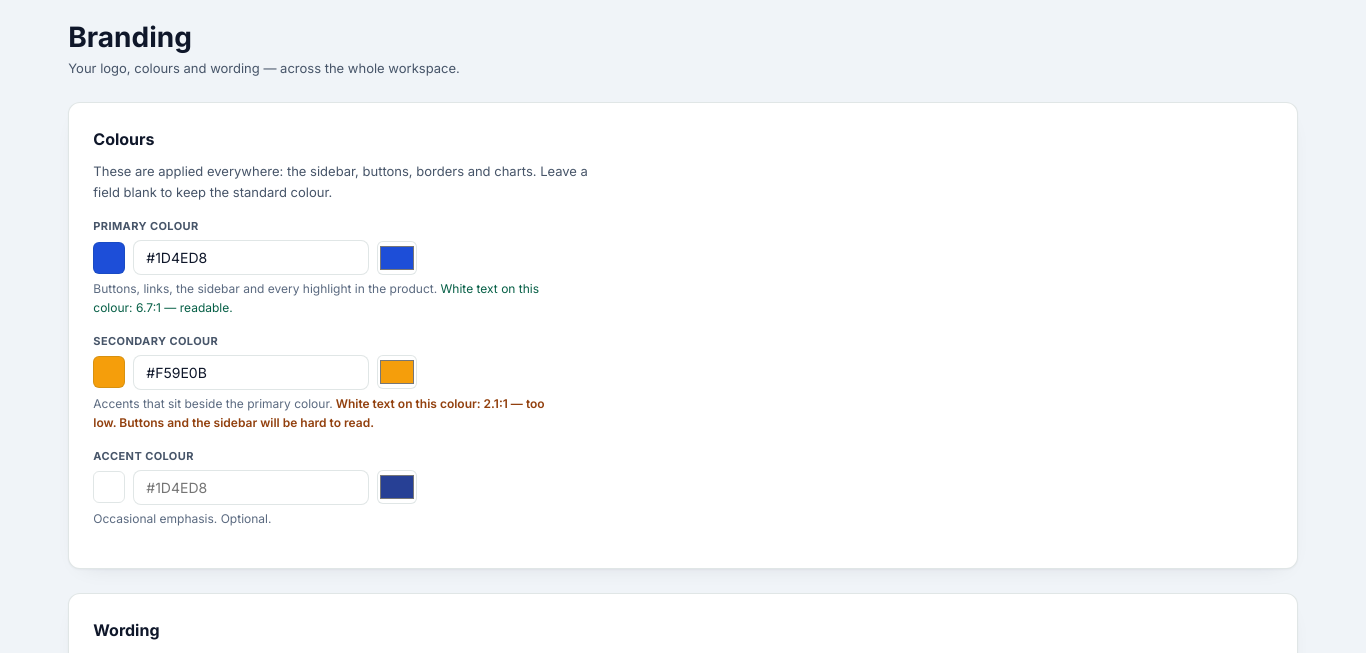
it: the branding centre › reports a refused colour without losing what was typed
The image size is (1366, 653).
In the field labelled "Primary colour": (251, 258) [133,240,369,275], type "rebeccapurple"
(page scrolled)
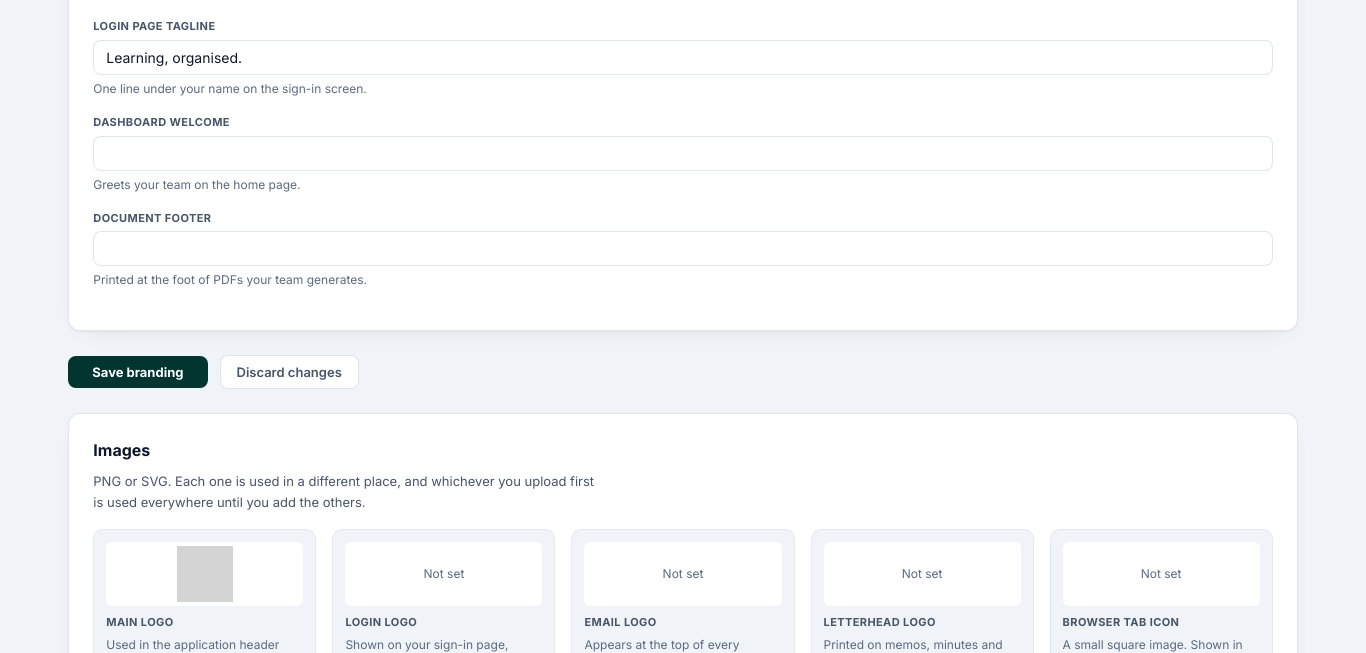
Click the button "Save branding": (138, 372) [68,356,208,388]
(page scrolled)
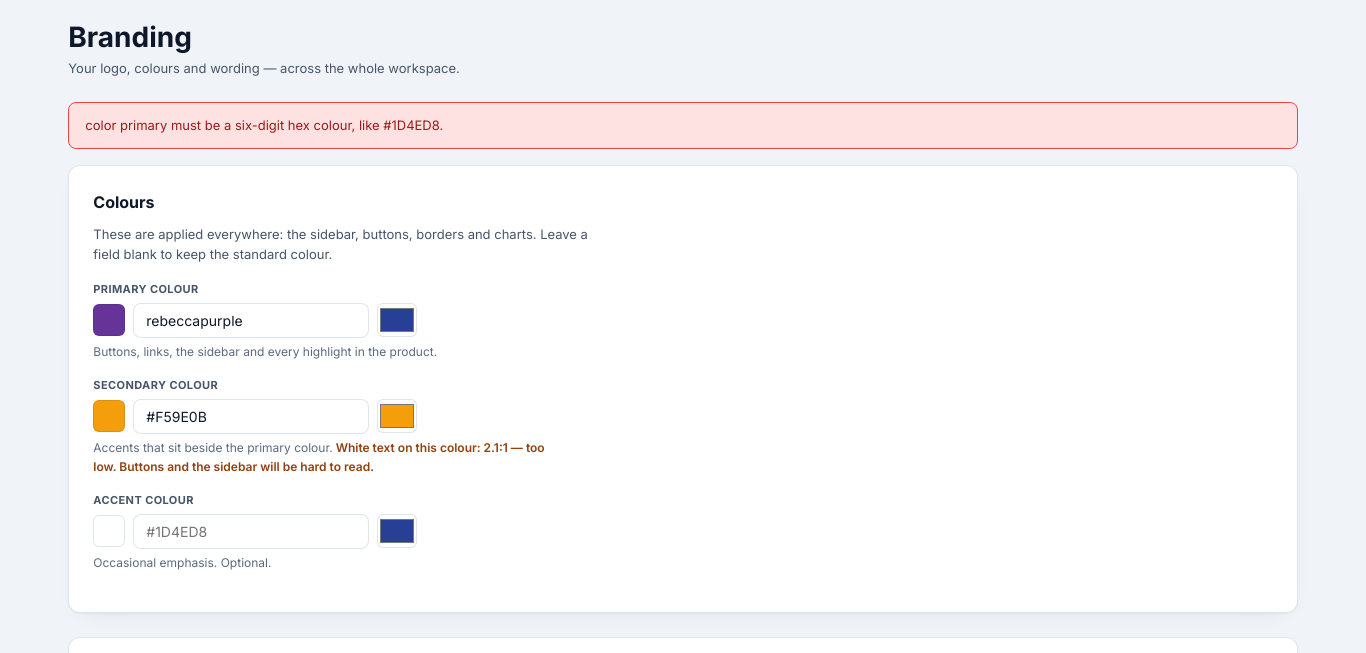
Result: the message shows "six-digit hex" at [85,117,443,133]
